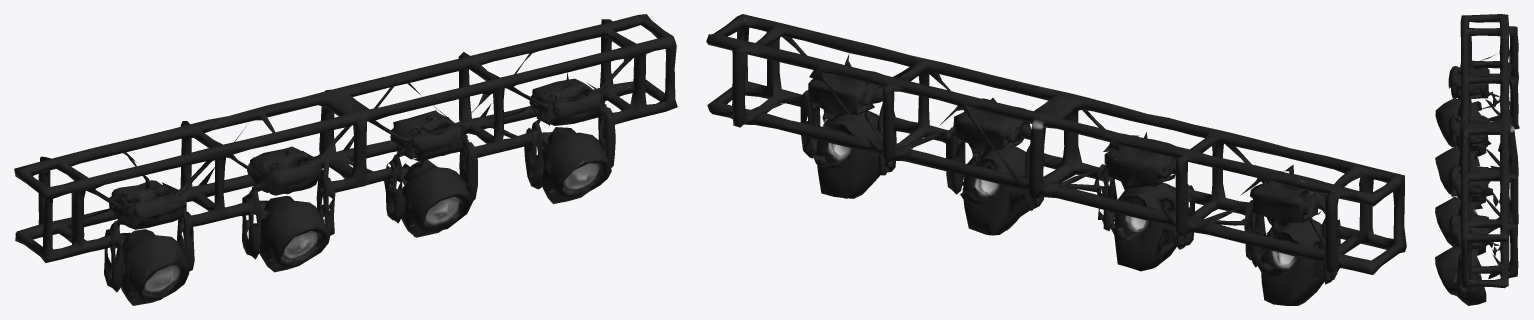
The model's file is truss-par-s1.lo.glb.
The picture shows the model from 3 angles, left to right: view 1: azimuth 30°, elevation 25°; view 2: azimuth 150°, elevation 25°; view 3: azimuth 270°, elevation 25°; orthographic projection. The views are drawn at different scales.
Visible parts, largest first — view 1: geometry_0; view 2: geometry_0; view 3: geometry_0.
Part boxes in pixels (x1,y1,x2,y2): geometry_0: (14,14,677,305); geometry_0: (706,14,1406,305); geometry_0: (1435,14,1519,305).
Size of the model in its own units: 1 by 0.218 by 0.1614.
1 material, 1 textured.
